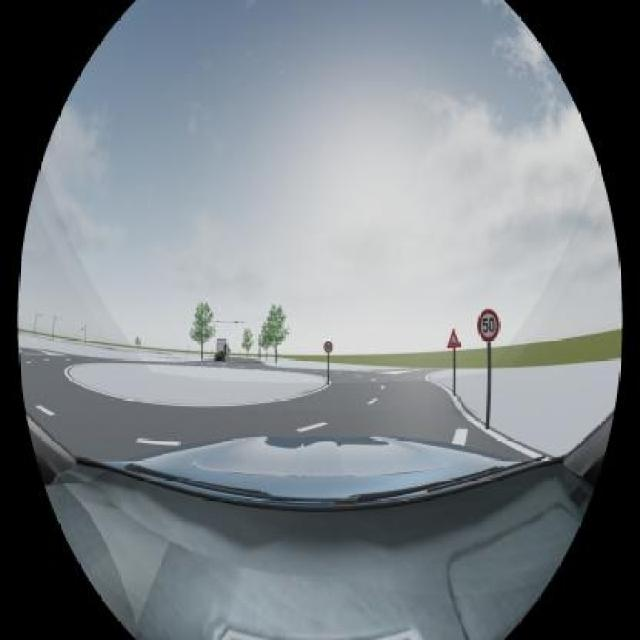forb_speed_over_50: (478, 308, 499, 341), (324, 340, 333, 352)
